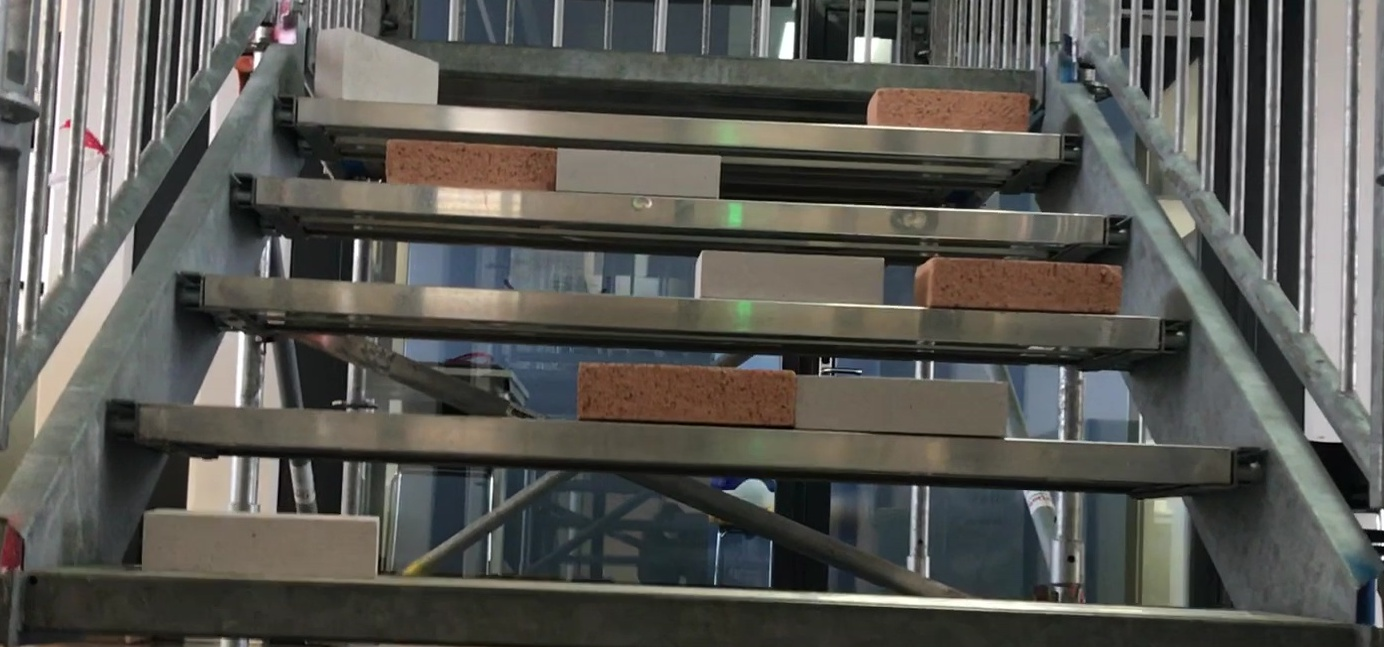brick: (142, 508, 377, 583), (575, 364, 794, 427), (796, 374, 1005, 438), (914, 257, 1120, 313), (694, 254, 882, 307), (384, 139, 554, 190), (318, 29, 438, 101), (558, 149, 719, 198), (871, 90, 1029, 130)
edge: (112, 403, 1264, 492), (28, 571, 1355, 645), (177, 273, 1189, 359), (233, 176, 1129, 253), (276, 95, 1082, 164), (307, 25, 1038, 99)
